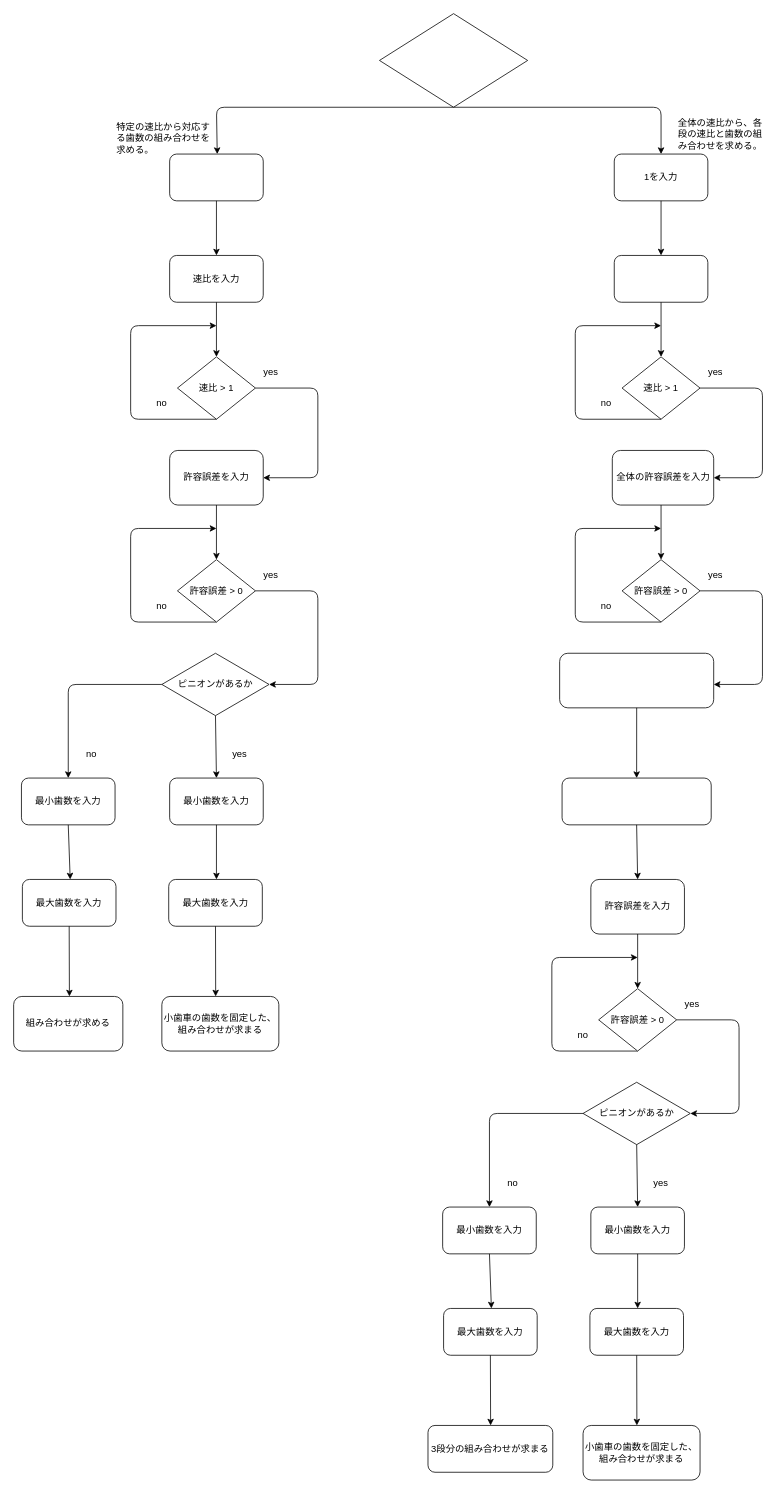
The diagram is 784 pixels wide and 1494 high, and some of its shapes have lost their labels. The shapes that lost their labels are listed below. From the top down, each one's centre as x and y in pixels, then its label:
At point 453,60: "モードを選択".
At point 216,177: "0を入力".
At point 660,278: "全体の速比を入力".
At point 636,680: "各段の速比の組み合わせが求まる".
At point 636,801: "速比の組み合わせを決定する".
